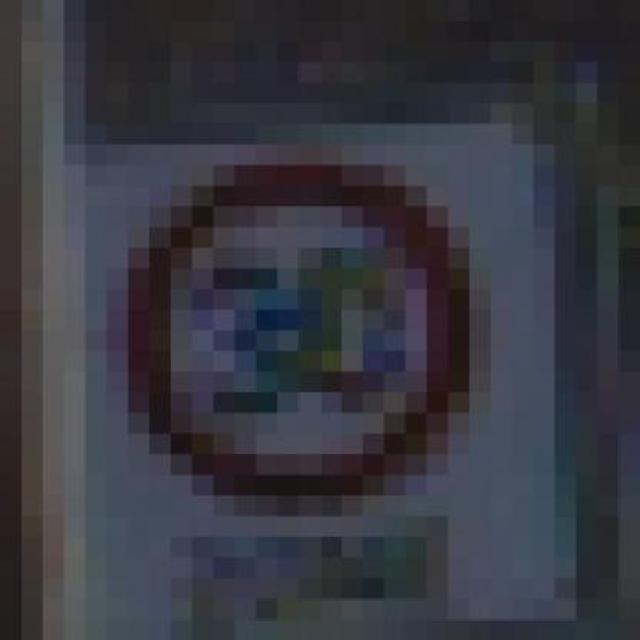Speed Limit 30 KMPh: (106, 124, 491, 496)
